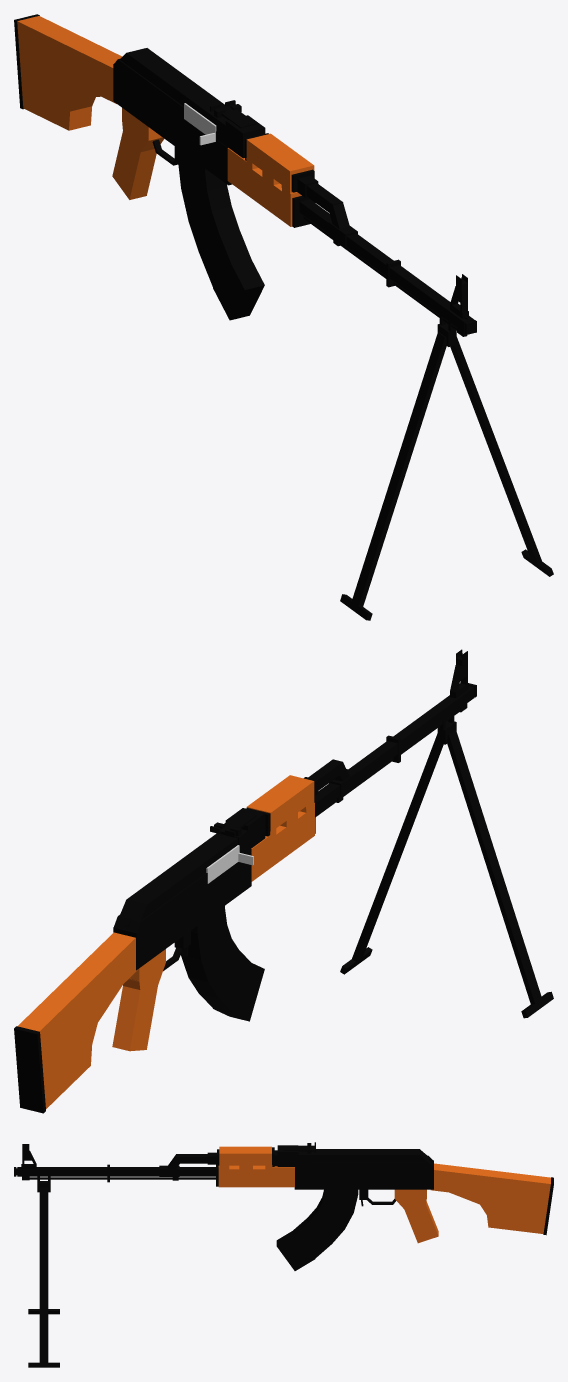
File: rpk_cube.glb
3 views of the same model, one above another, from view 1: azimuth 30°, elevation 25°; view 2: azimuth 150°, elevation 25°; view 3: azimuth 270°, elevation 25° (orthographic). The views are drawn at different scales.
Visible parts, largest first — view 1: Object_5, Object_2, Object_3; view 2: Object_5, Object_2, Object_3, Object_4; view 3: Object_5, Object_2, Object_3.
Part boxes in pixels (x1=…): Object_5: x1=14, y1=14, x2=553, y2=620; Object_2: x1=17, y1=16, x2=314, y2=226; Object_3: x1=177, y1=148, x2=264, y2=320; Object_5: x1=14, y1=649, x2=553, y2=1113; Object_2: x1=18, y1=775, x2=314, y2=1108; Object_3: x1=181, y1=906, x2=264, y2=1021; Object_4: x1=206, y1=845, x2=253, y2=883; Object_5: x1=14, y1=1142, x2=553, y2=1367; Object_2: x1=218, y1=1146, x2=550, y2=1243; Object_3: x1=276, y1=1189, x2=358, y2=1270.
Bounding box in the file's own units: 0.6264 × 1.03 × 2.58.
